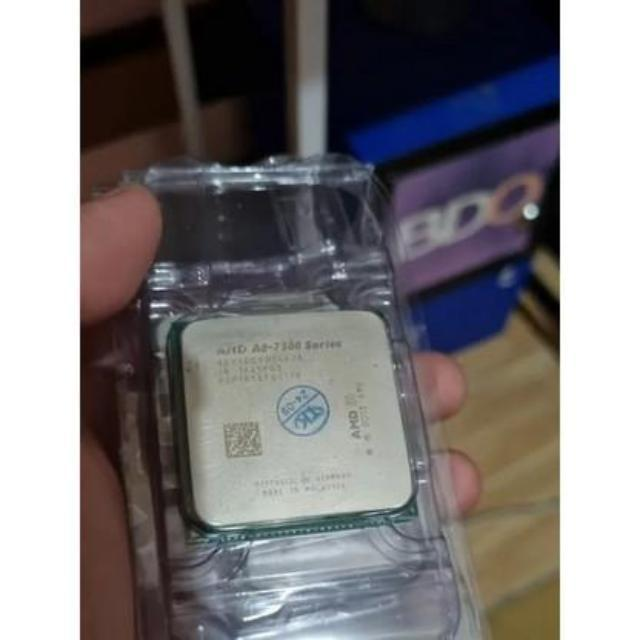CPU: (160, 313, 422, 527)
